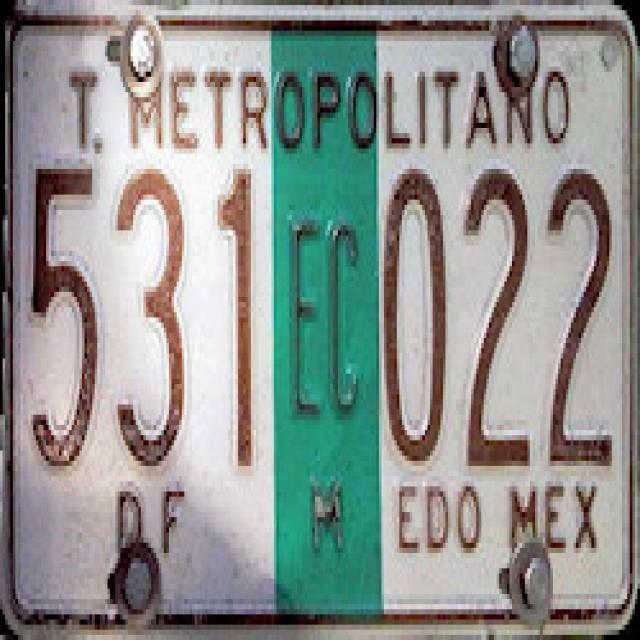placa: (16, 146, 626, 485)
